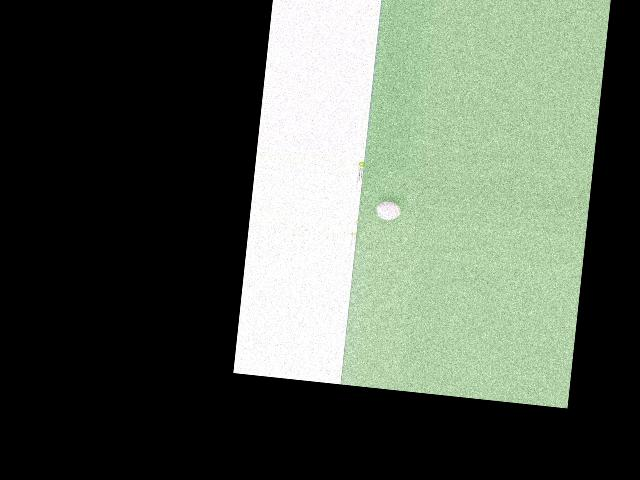egg: (375, 200, 401, 221)
